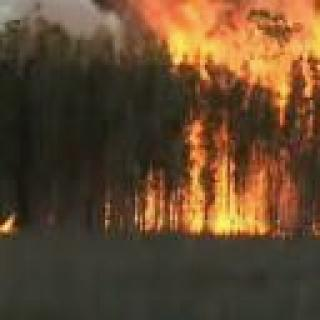fire: (134, 0, 320, 238), (2, 207, 19, 240)
